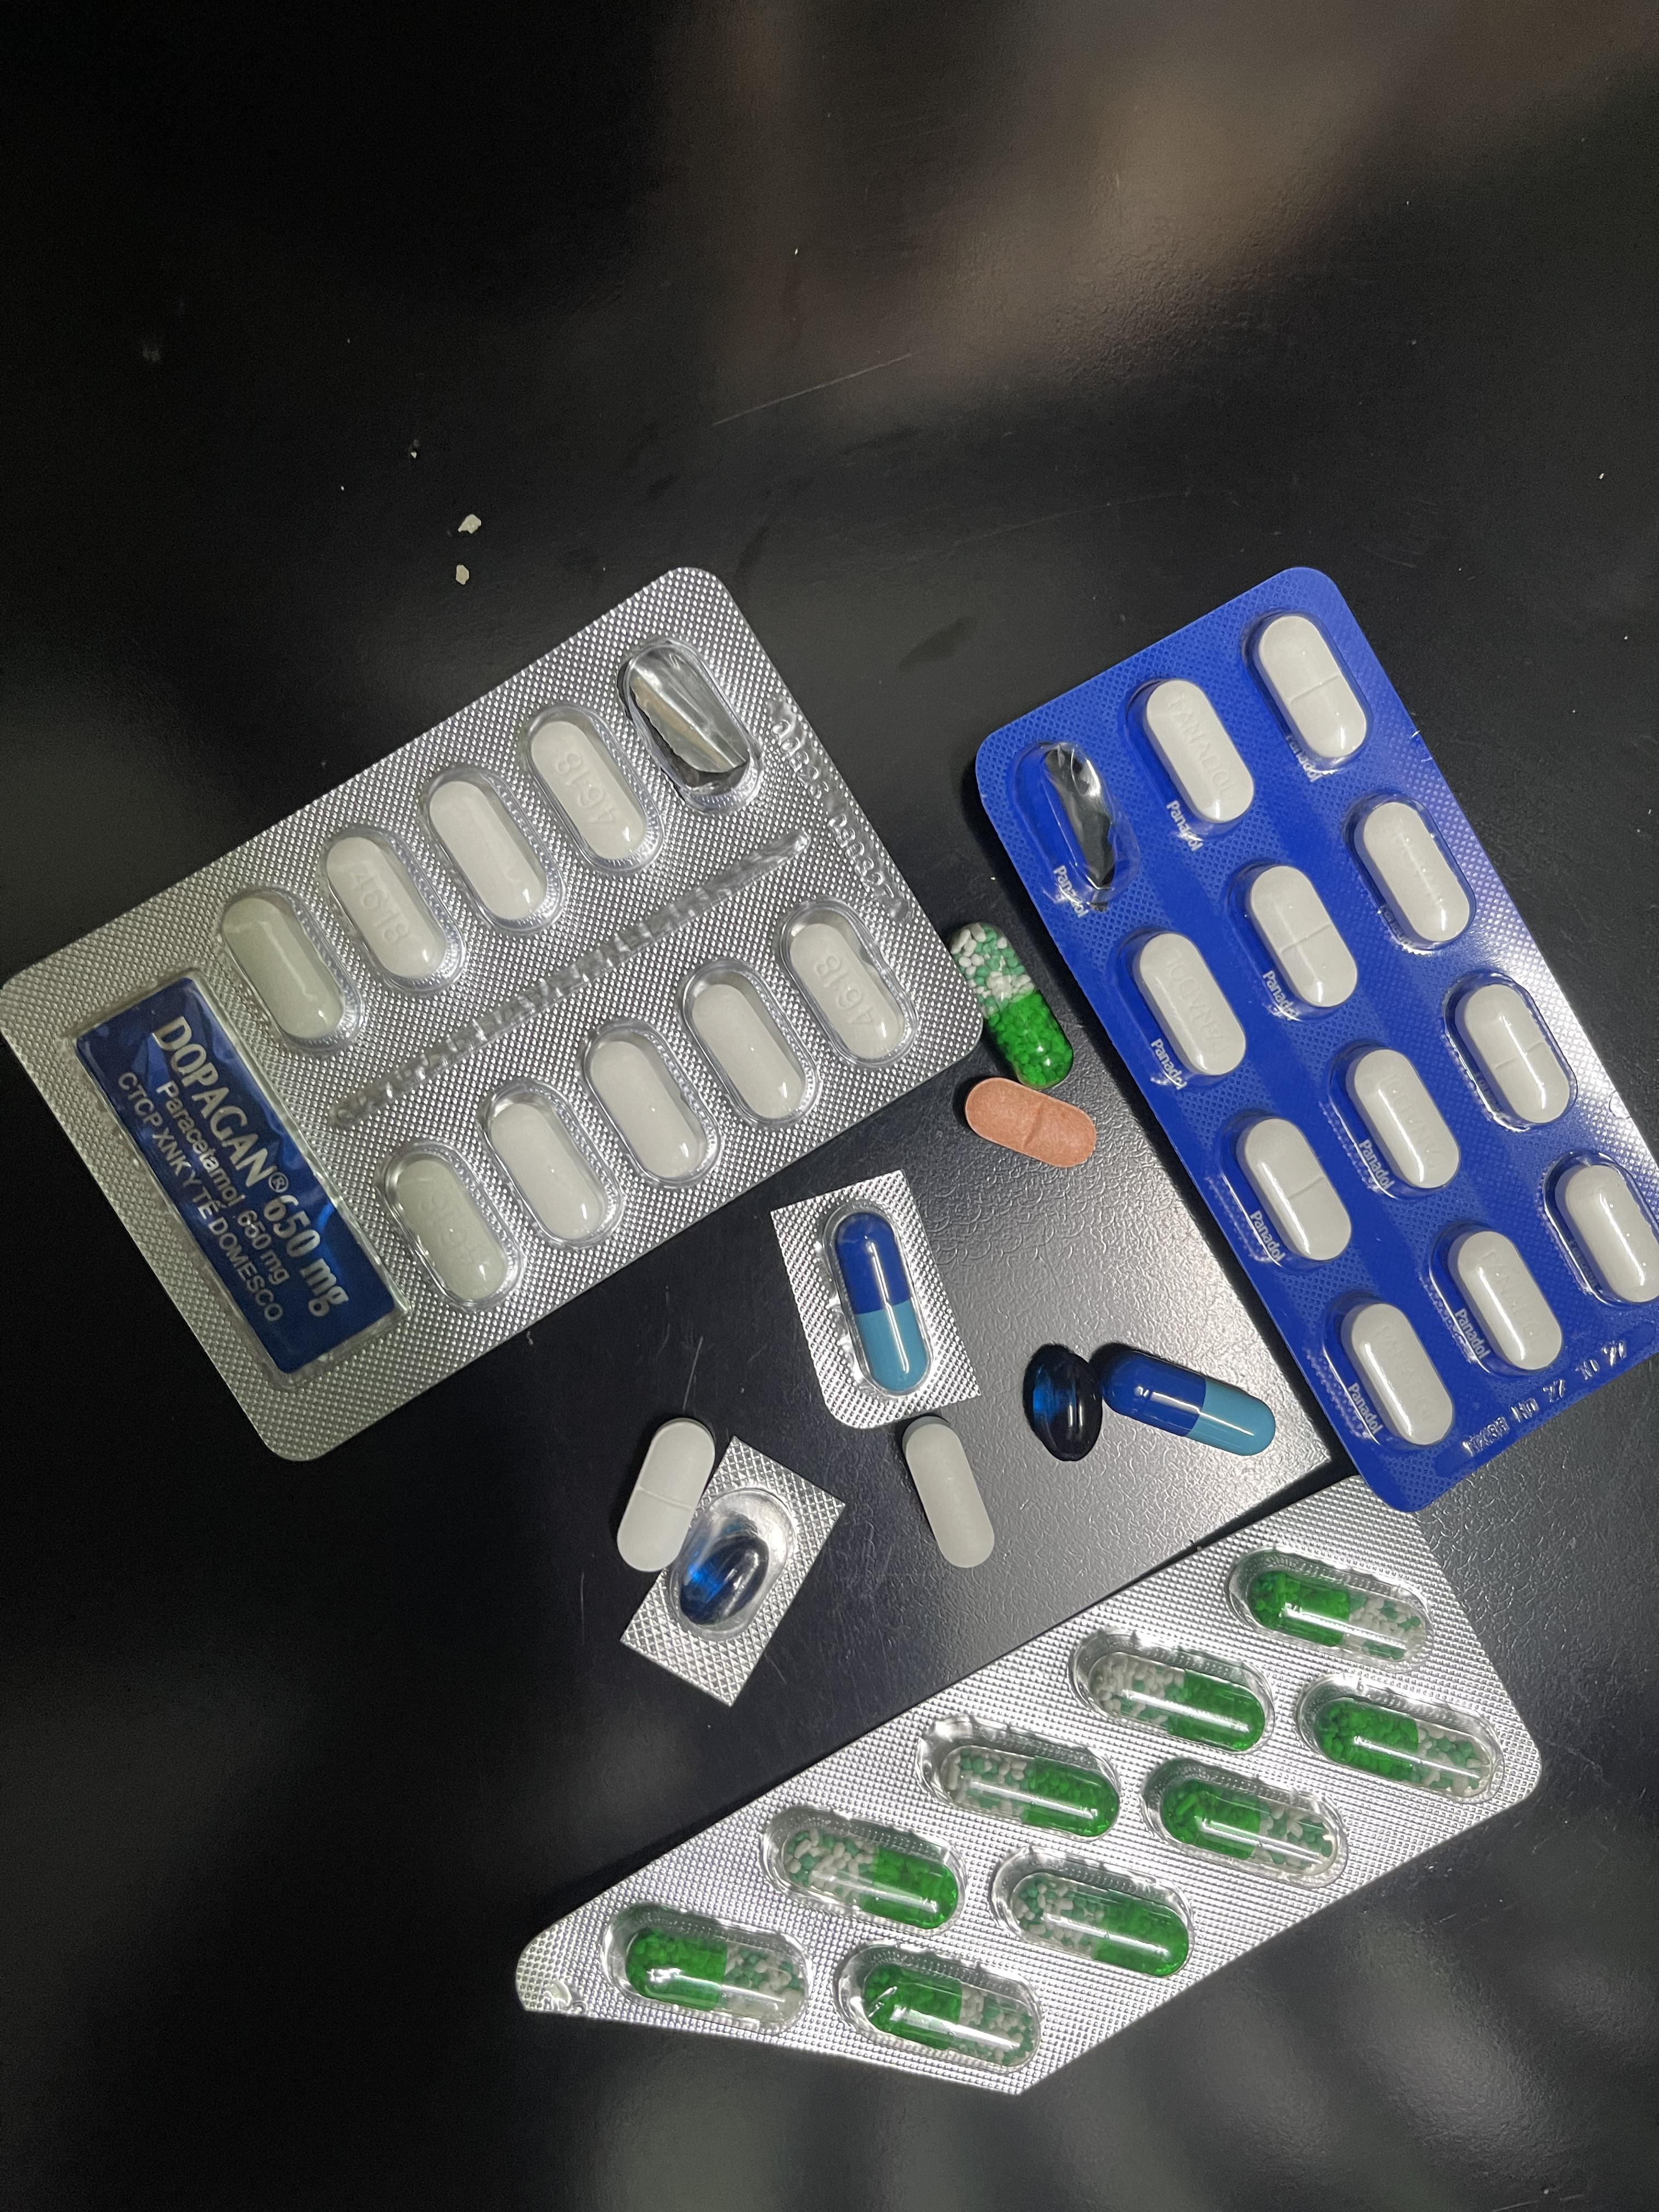Lincomyxin_500mg: (1023, 1343, 1100, 1454), (681, 1529, 770, 1622)
Loratadine_10mg: (964, 1076, 1096, 1169)
Paracetamol_350mg: (1249, 610, 1368, 766), (1441, 1226, 1567, 1372), (1352, 798, 1474, 948), (1453, 982, 1575, 1130), (1127, 932, 1246, 1083), (1138, 678, 1255, 831), (1239, 864, 1359, 1010), (1337, 1298, 1457, 1444), (1344, 1045, 1464, 1190), (1234, 1116, 1351, 1263), (612, 1416, 718, 1576), (1554, 1160, 1659, 1308)
Paracetamol_500mg: (483, 1090, 612, 1245), (425, 770, 549, 930), (326, 829, 451, 982), (530, 712, 653, 867), (687, 975, 809, 1127), (223, 895, 347, 1043), (586, 1036, 704, 1186), (390, 1155, 502, 1298), (897, 1416, 997, 1569), (793, 921, 894, 1057)
Paracetamol_650mg: (836, 1939, 1042, 2069), (608, 1902, 816, 2031), (1297, 1679, 1500, 1799), (767, 1804, 964, 1928), (1143, 1761, 1342, 1883), (999, 1850, 1192, 1973), (920, 1717, 1119, 1832), (1075, 1632, 1269, 1747), (1234, 1547, 1432, 1658), (955, 923, 1070, 1089)
pill: (1098, 1341, 1270, 1456), (831, 1212, 934, 1395)
